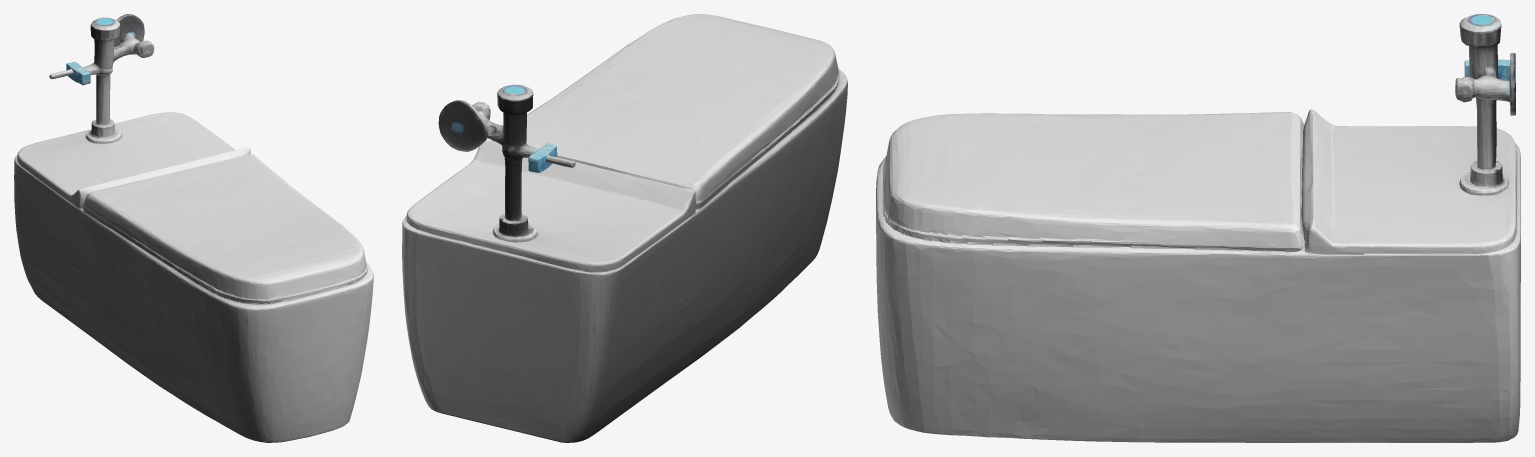
The model's file is 0255354d-c4f6-4934-aae3-f32c7c5101db.glb.
3 views of the same model, side by side, from view 1: azimuth 30°, elevation 25°; view 2: azimuth 150°, elevation 25°; view 3: azimuth 270°, elevation 25° (orthographic). The views are drawn at different scales.
Parts seen in each view (by area): view 1: world; view 2: world; view 3: world.
Part boxes in pixels (x1,y1,x2,y2): world: [14, 14, 373, 442]; world: [402, 14, 847, 442]; world: [876, 14, 1520, 442].
Size of the model in its own units: 0.447 by 0.6483 by 1.
1 material, 1 textured.
